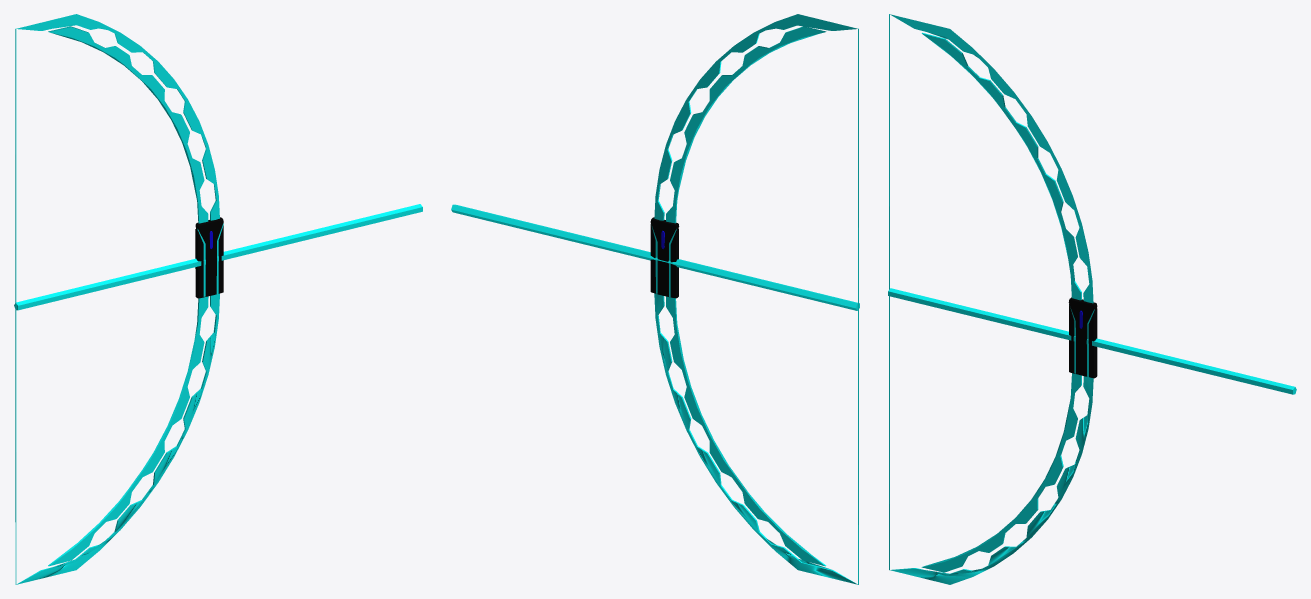
Rendered from sword.glb.
The picture shows the model from 3 angles, left to right: view 1: azimuth 30°, elevation 25°; view 2: azimuth 150°, elevation 25°; view 3: azimuth 330°, elevation 25°; orthographic projection.
Visible parts, largest first — view 1: 下ブレード, 上ブレード, 矢, material.002, 弦; view 2: 下ブレード, 上ブレード, 矢, material.002, 弦; view 3: 上ブレード, 下ブレード, 矢, material.002, 弦.
Part boxes in pixels (<box>): 下ブレード: <box>16,293,219,584</box>; 上ブレード: <box>16,14,219,223</box>; 矢: <box>14,204,422,310</box>; material.002: <box>195,217,223,298</box>; 弦: <box>15,28,16,584</box>; 下ブレード: <box>654,293,857,584</box>; 上ブレード: <box>654,14,857,223</box>; 矢: <box>451,204,859,310</box>; material.002: <box>650,217,679,298</box>; 弦: <box>858,28,858,584</box>; 上ブレード: <box>890,14,1093,303</box>; 下ブレード: <box>890,373,1093,584</box>; 矢: <box>888,288,1296,394</box>; material.002: <box>1068,297,1097,378</box>; 弦: <box>889,14,889,569</box>.
Bounding box in the file's own units: 1.21 × 1.58 × 0.022.
